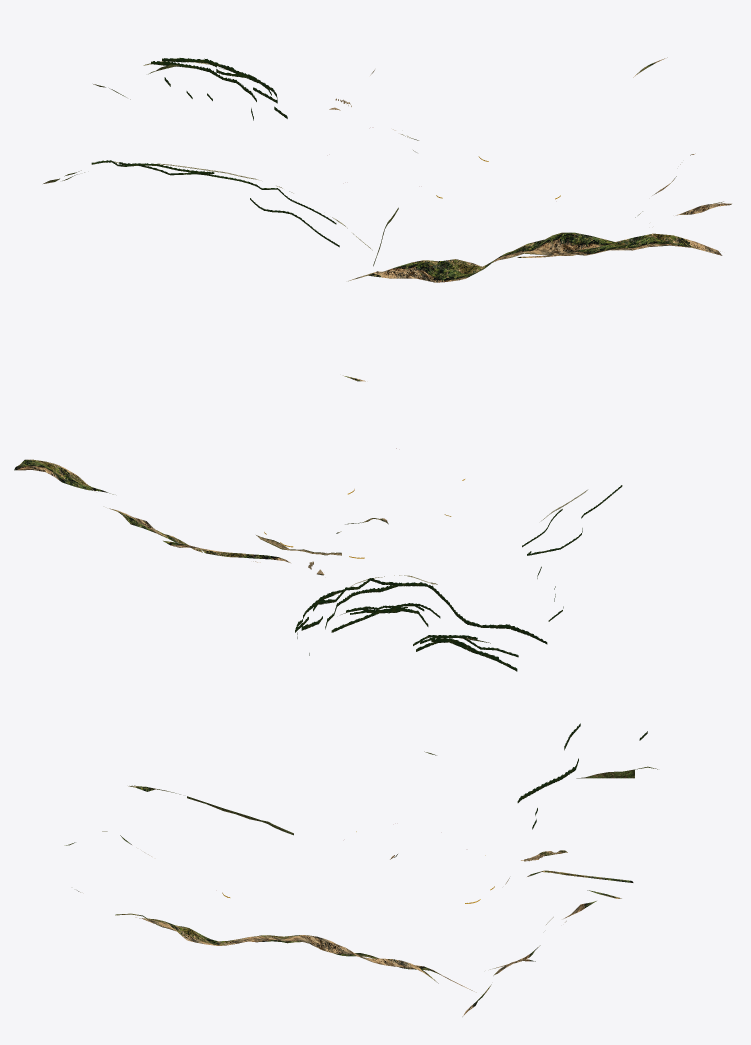
The model's file is track-EU_C4_V2_env.glb.
3 views of the same model, one above another, from view 1: azimuth 30°, elevation 25°; view 2: azimuth 150°, elevation 25°; view 3: azimuth 270°, elevation 25° (orthographic). The views are drawn at different scales.
Parts seen in each view (by area): view 1: EU_C4_V2_env; view 2: EU_C4_V2_env; view 3: EU_C4_V2_env.
Boxes of the visible parts, x1,y1,x2,y2 form: EU_C4_V2_env: [43, 57, 731, 282]; EU_C4_V2_env: [14, 375, 622, 671]; EU_C4_V2_env: [64, 723, 657, 1016].
Bounding box in the file's own units: 4109 × 336 × 3868.
11 materials, 10 textured.
